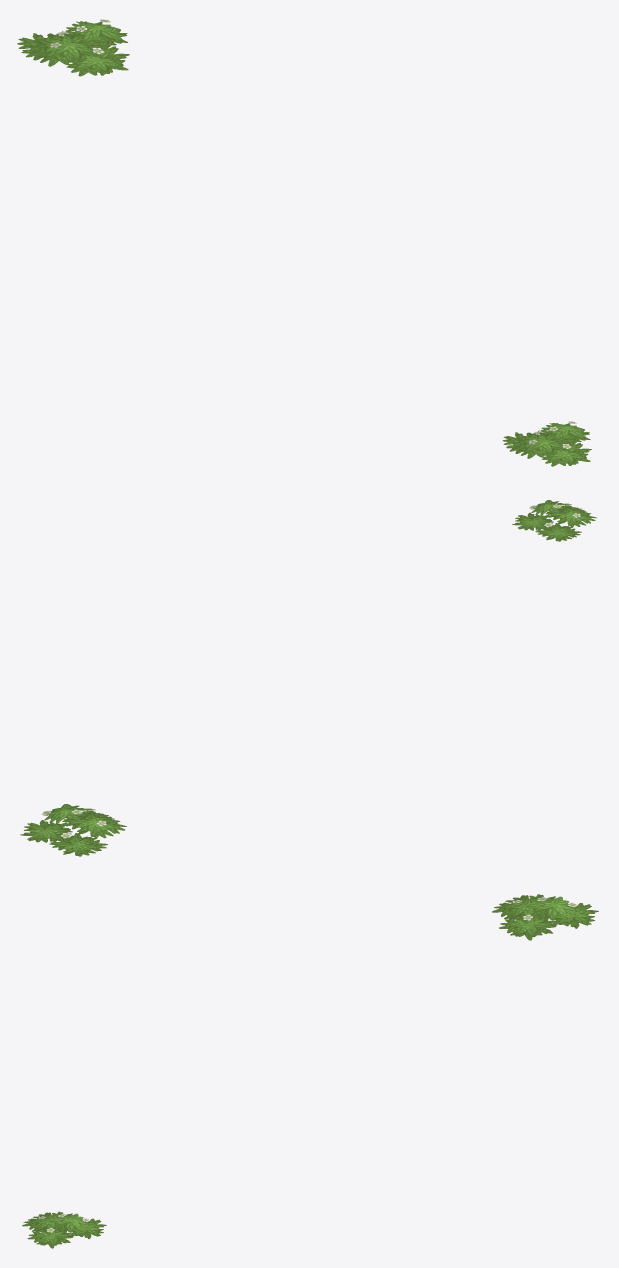
Rendered from Area_09_34.fbx.
3 views of the same model, one above another, from view 1: azimuth 30°, elevation 25°; view 2: azimuth 150°, elevation 25°; view 3: azimuth 330°, elevation 25° (orthographic). The views are drawn at different scales.
Parts seen in each view (by area): view 1: Area_09_34; view 2: Area_09_34; view 3: Area_09_34.
Boxes of the visible parts, x1,y1,x2,y2 form: Area_09_34: [17, 19, 591, 466]; Area_09_34: [20, 500, 596, 856]; Area_09_34: [22, 894, 598, 1248].
Bounding box in the file's own units: 388 × 64.5 × 2446.
